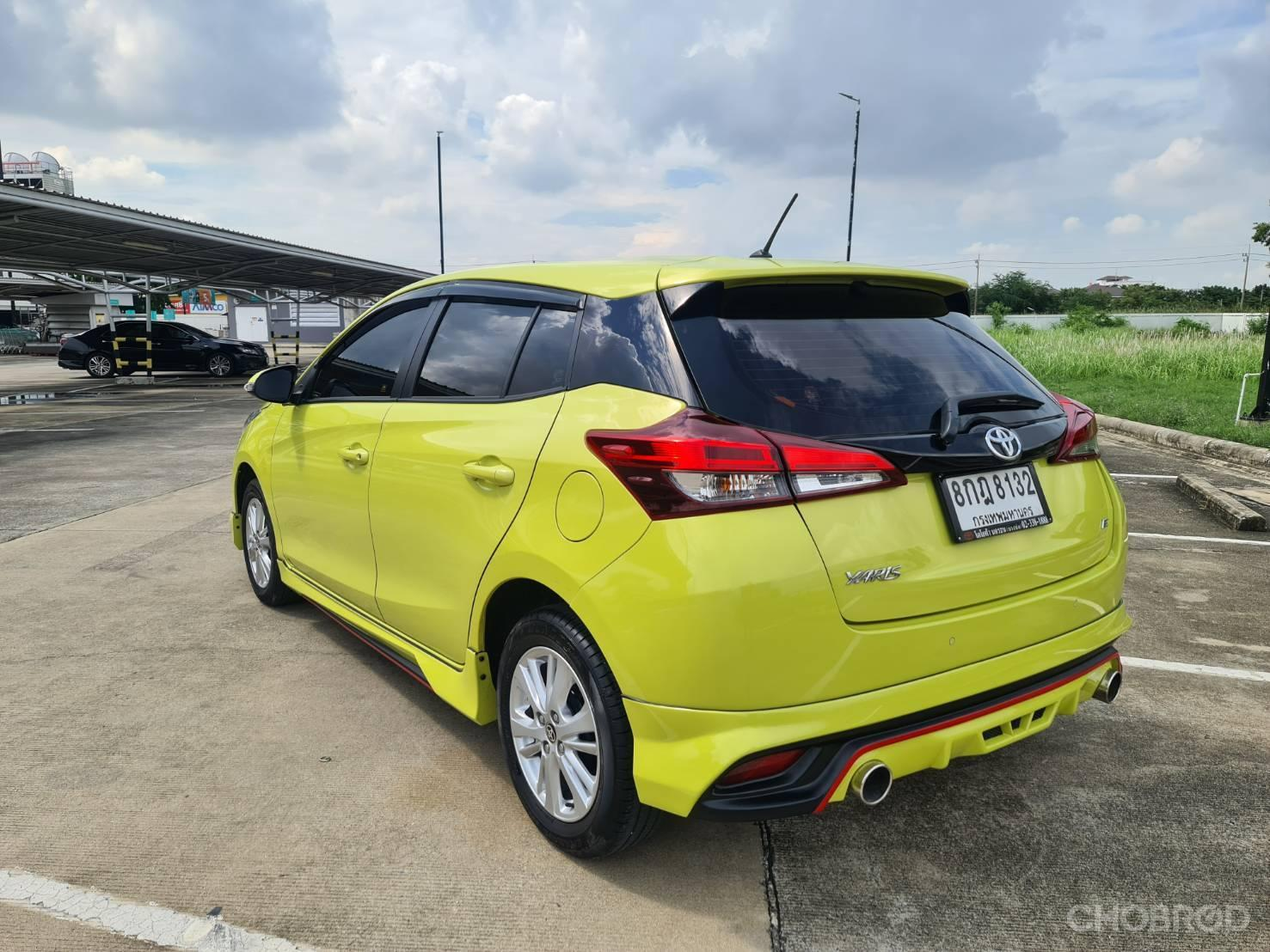license-plate: (931, 451, 1069, 557)
